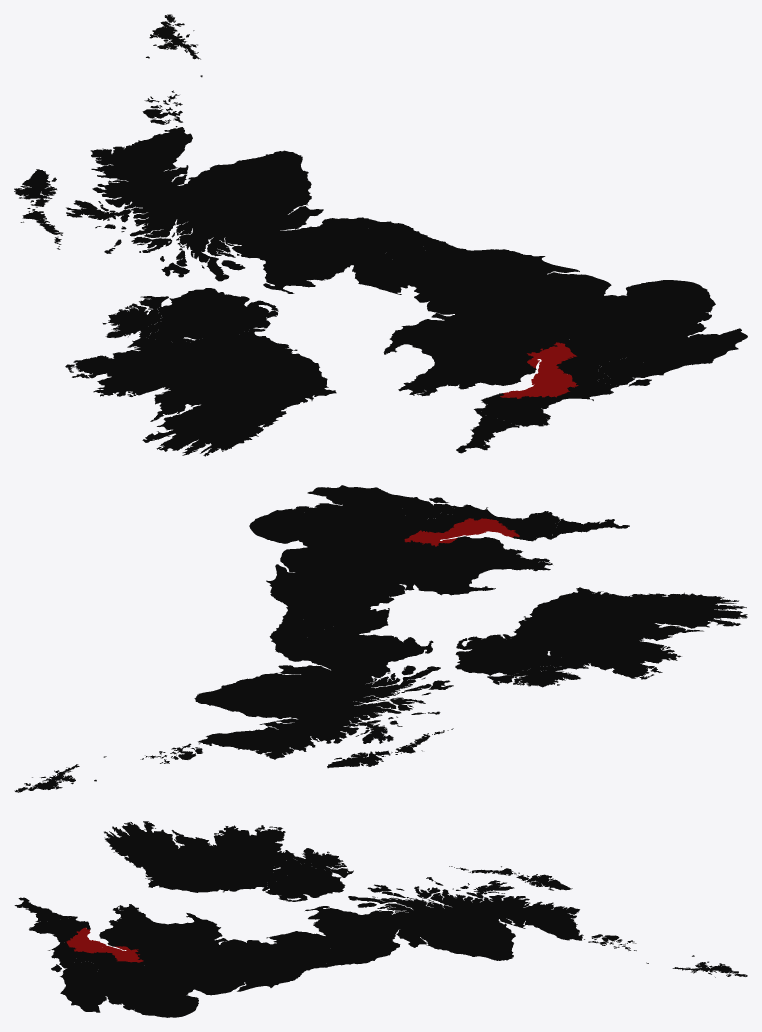
3 renders of one model, top to bottom at view 1: azimuth 30°, elevation 25°; view 2: azimuth 150°, elevation 25°; view 3: azimuth 270°, elevation 25°, orthographic. The views are drawn at different scales.
Parts seen in each view (by area): view 1: GB-SC, IE, GB-WA, GB-YK, GB-NI, GB-CU, GB-LI, GB-DV, GB-NB, GB-NF, GB-LA, GB-HA (+15 smaller); view 2: GB-SC, IE, GB-WA, GB-YK, GB-NI, GB-CU, GB-LI, GB-DV, GB-NB, GB-NF, GB-LA, GB-HA (+14 smaller); view 3: GB-SC, IE, GB-WA, GB-YK, GB-NI, GB-CU, GB-LI, GB-DV, GB-NB, GB-NF, GB-LA, GB-HA (+18 smaller).
Part boxes in pixels (box(x1,y1,x2,y2)): GB-SC: box(14, 14, 382, 293); IE: box(65, 296, 336, 456); GB-WA: box(383, 319, 536, 396); GB-YK: box(426, 249, 579, 301); GB-NI: box(147, 288, 278, 342); GB-CU: box(352, 249, 432, 294); GB-LI: box(531, 272, 622, 310); GB-DV: box(474, 393, 561, 426); GB-NB: box(367, 220, 439, 260); GB-NF: box(620, 280, 703, 307); GB-LA: box(411, 280, 487, 314); GB-HA: box(597, 356, 653, 386); GB-SC: box(14, 633, 453, 792); IE: box(487, 587, 747, 687); GB-WA: box(410, 536, 552, 595); GB-YK: box(266, 564, 361, 610); GB-NI: box(455, 634, 564, 675); GB-CU: box(322, 605, 389, 635); GB-LI: box(280, 539, 338, 574); GB-DV: box(495, 511, 559, 541); GB-NB: box(269, 618, 334, 647); GB-NF: box(249, 519, 314, 543); GB-LA: box(352, 579, 405, 608); GB-HA: box(396, 497, 454, 520); GB-SC: box(305, 866, 747, 977); IE: box(104, 821, 353, 892); GB-WA: box(99, 904, 222, 946); GB-YK: box(216, 948, 305, 991); GB-NI: box(265, 858, 345, 901); GB-CU: box(266, 931, 340, 954); GB-LI: box(175, 974, 245, 995); GB-DV: box(29, 916, 90, 942); GB-NB: box(314, 946, 382, 966); GB-NF: box(159, 991, 198, 1017); GB-LA: box(221, 939, 278, 959); GB-HA: box(51, 958, 98, 977).
Bounding box in the file's own units: 21.72 × 1.5e-06 × 34.23.
